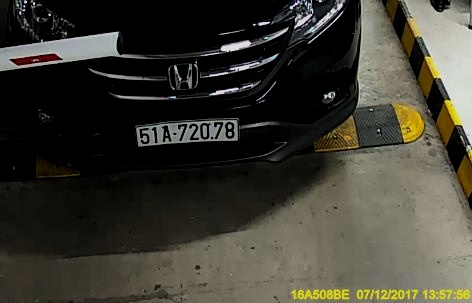plate: (131, 116, 241, 150)
